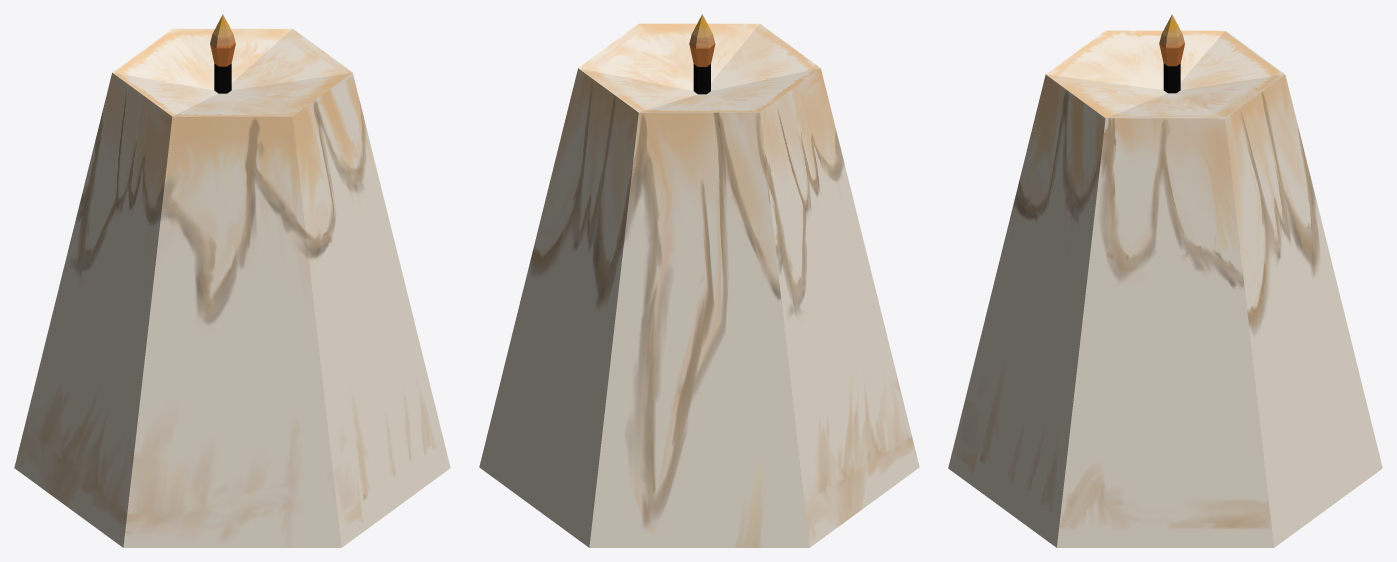
The model's file is Candle2.fbx.
3 renders of one model, left to right at view 1: azimuth 30°, elevation 25°; view 2: azimuth 150°, elevation 25°; view 3: azimuth 270°, elevation 25°, orthographic.
Parts seen in each view (by area): view 1: Cylinder.001; view 2: Cylinder.001; view 3: Cylinder.001.
Boxes of the visible parts, box(x1,y1,x2,y2) form: Cylinder.001: box(14, 14, 450, 547); Cylinder.001: box(479, 14, 919, 547); Cylinder.001: box(948, 14, 1382, 547).
Bounding box in the file's own units: 173 × 229 × 200.
